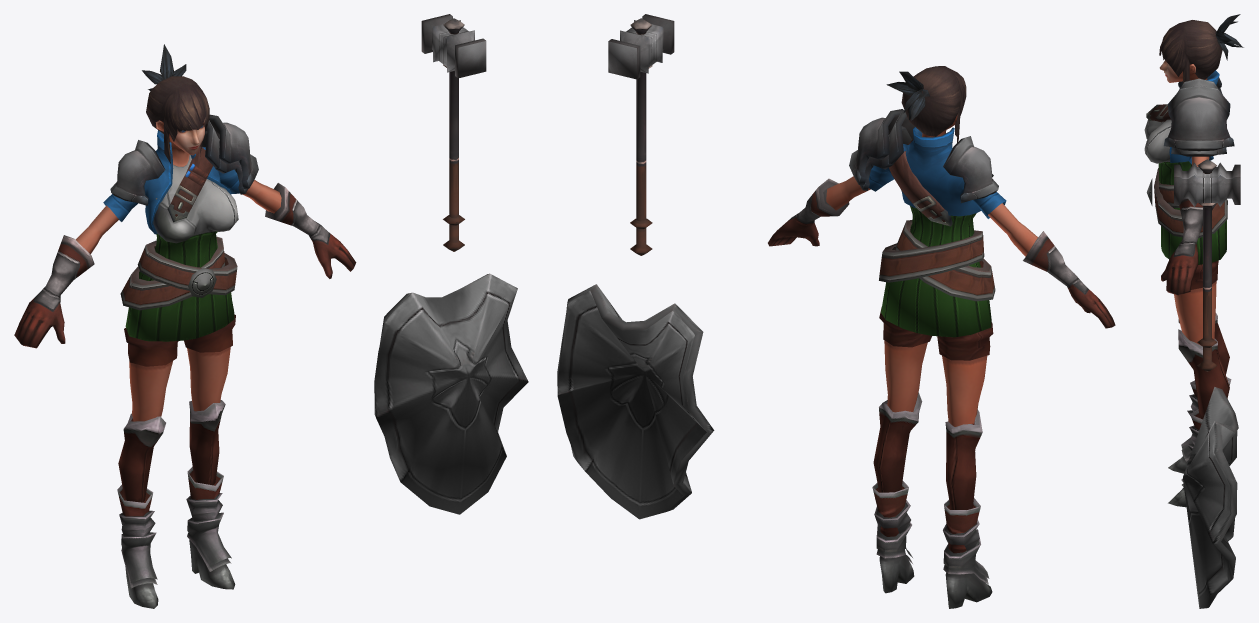
The picture shows the model from 3 angles, left to right: view 1: azimuth 30°, elevation 25°; view 2: azimuth 150°, elevation 25°; view 3: azimuth 270°, elevation 25°; orthographic projection. The views are drawn at different scales.
Parts seen in each view (by area): view 1: Theresa_Body; view 2: Theresa_Body; view 3: Theresa_Body.
Boxes of the visible parts, x1,y1,x2,y2 form: Theresa_Body: [14, 14, 528, 608]; Theresa_Body: [557, 14, 1115, 608]; Theresa_Body: [1144, 14, 1243, 608].
Size of the model in its own units: 1.87 by 1.78 by 0.338.
1 material, 1 textured.
